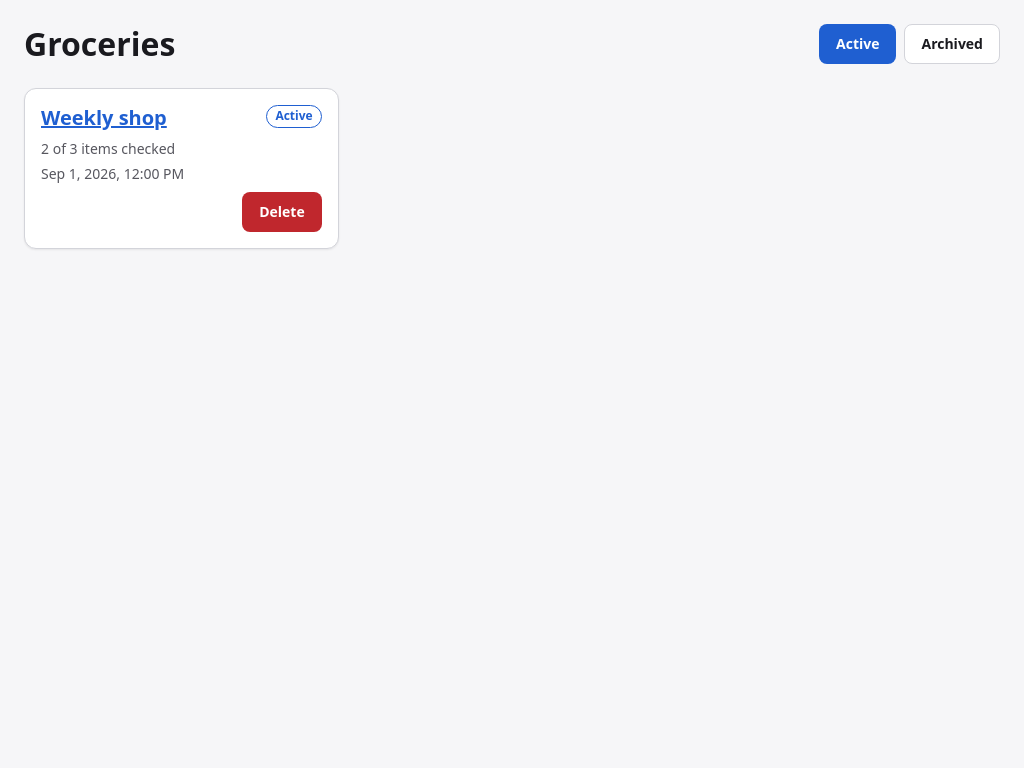
GroceryLists › deletes a list after confirming
Expected: the link "Weekly shop" is shown, [41,104,167,131]
Click the button "Delete": (282, 212) [242,192,322,232]
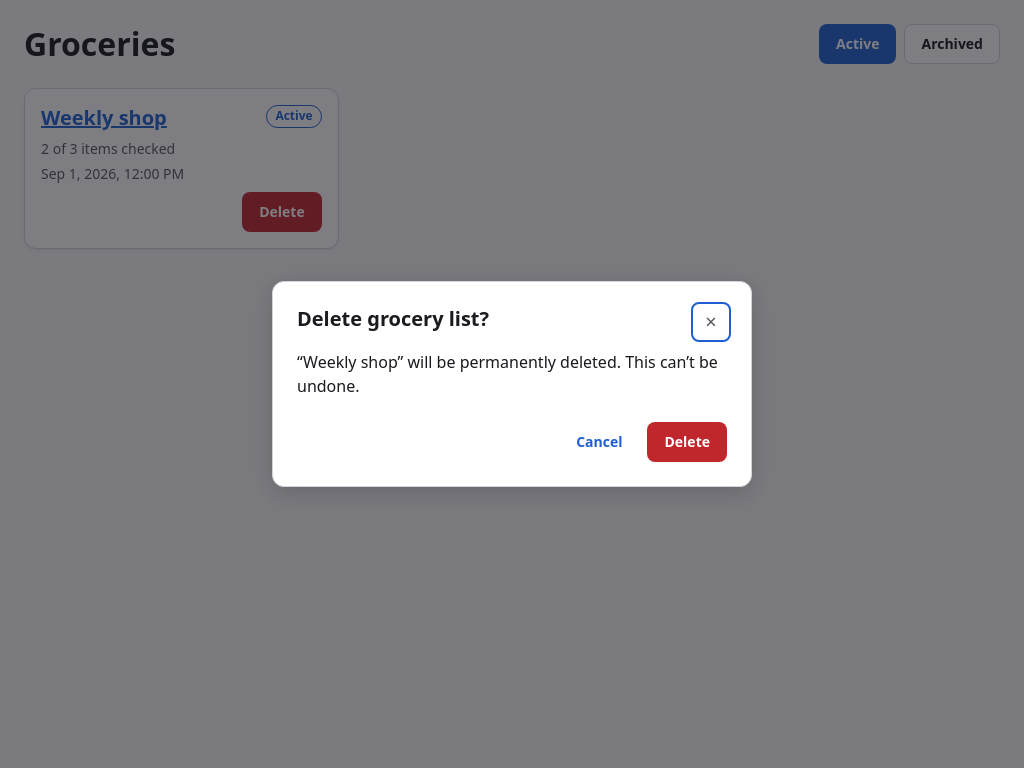
Result: the text "Weekly shop" is shown at [303,351,398,373]
Click the button "Delete": (687, 442) [648,422,727,462]
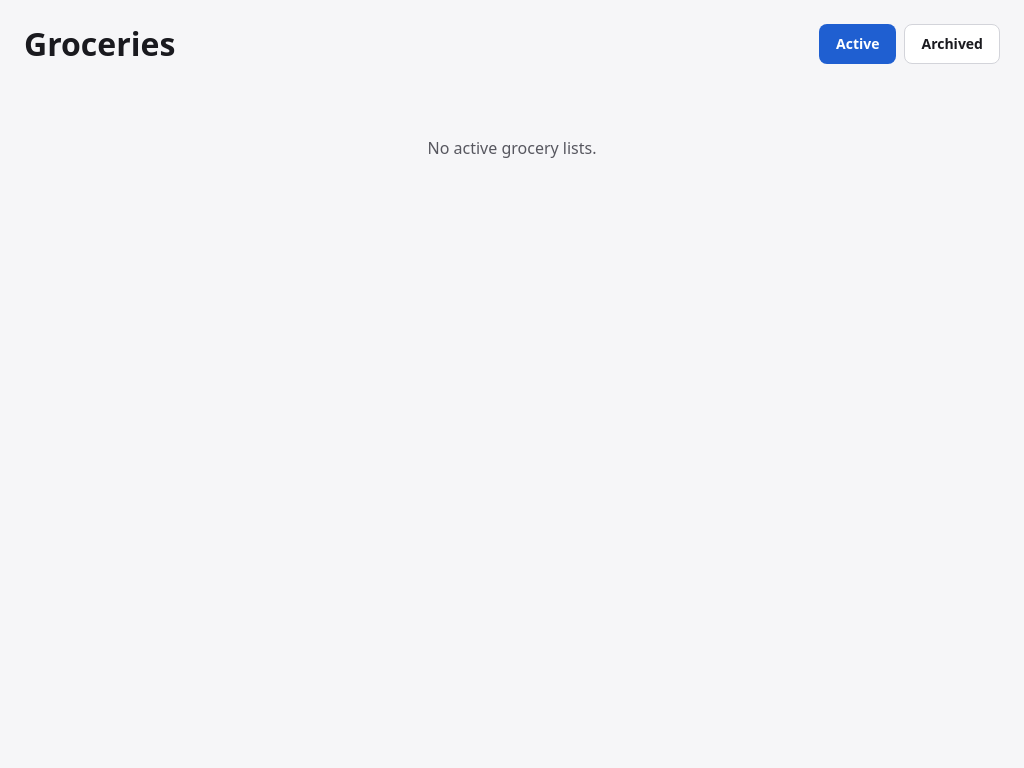
Result: the text "No active grocery lists." is shown at [428,136,596,160]
